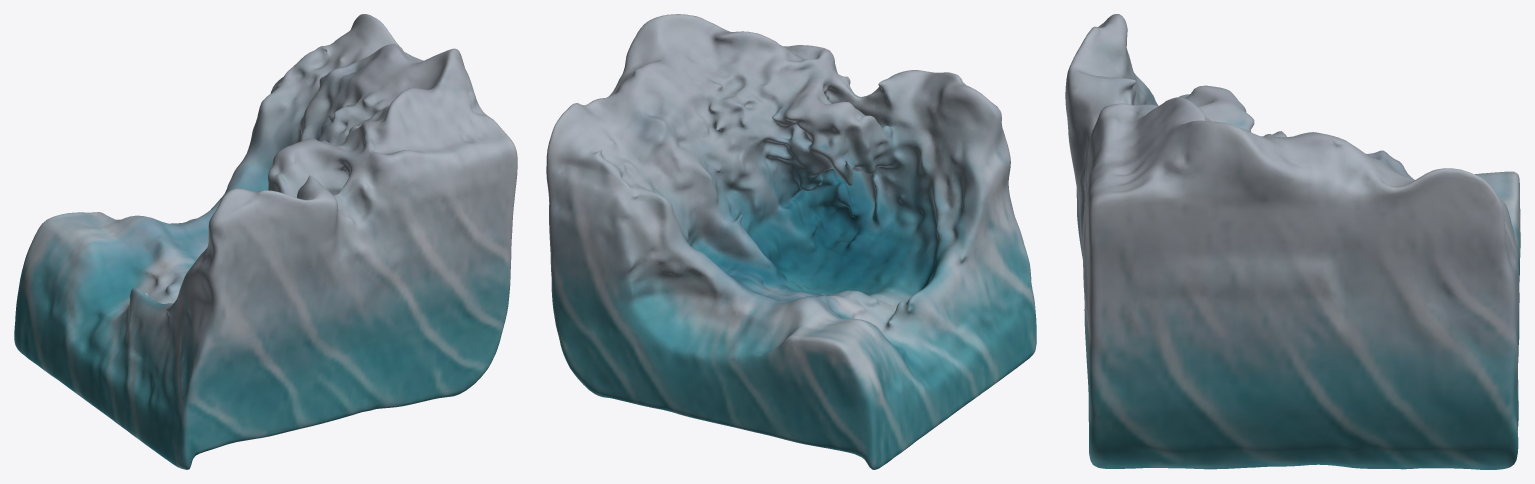
File: 228d1f366c5c_sea_wave_foam__3d_a.fbx
3 views of the same model, side by side, from view 1: azimuth 30°, elevation 25°; view 2: azimuth 150°, elevation 25°; view 3: azimuth 270°, elevation 25° (orthographic). The views are drawn at different scales.
Visible parts, largest first — view 1: high_poly; view 2: high_poly; view 3: high_poly.
Boxes of the visible parts, box(x1,y1,x2,y2) form: high_poly: box(14, 14, 517, 469); high_poly: box(546, 14, 1036, 469); high_poly: box(1065, 14, 1520, 469).
Bounding box in the file's own units: 100 × 83.92 × 90.67.
